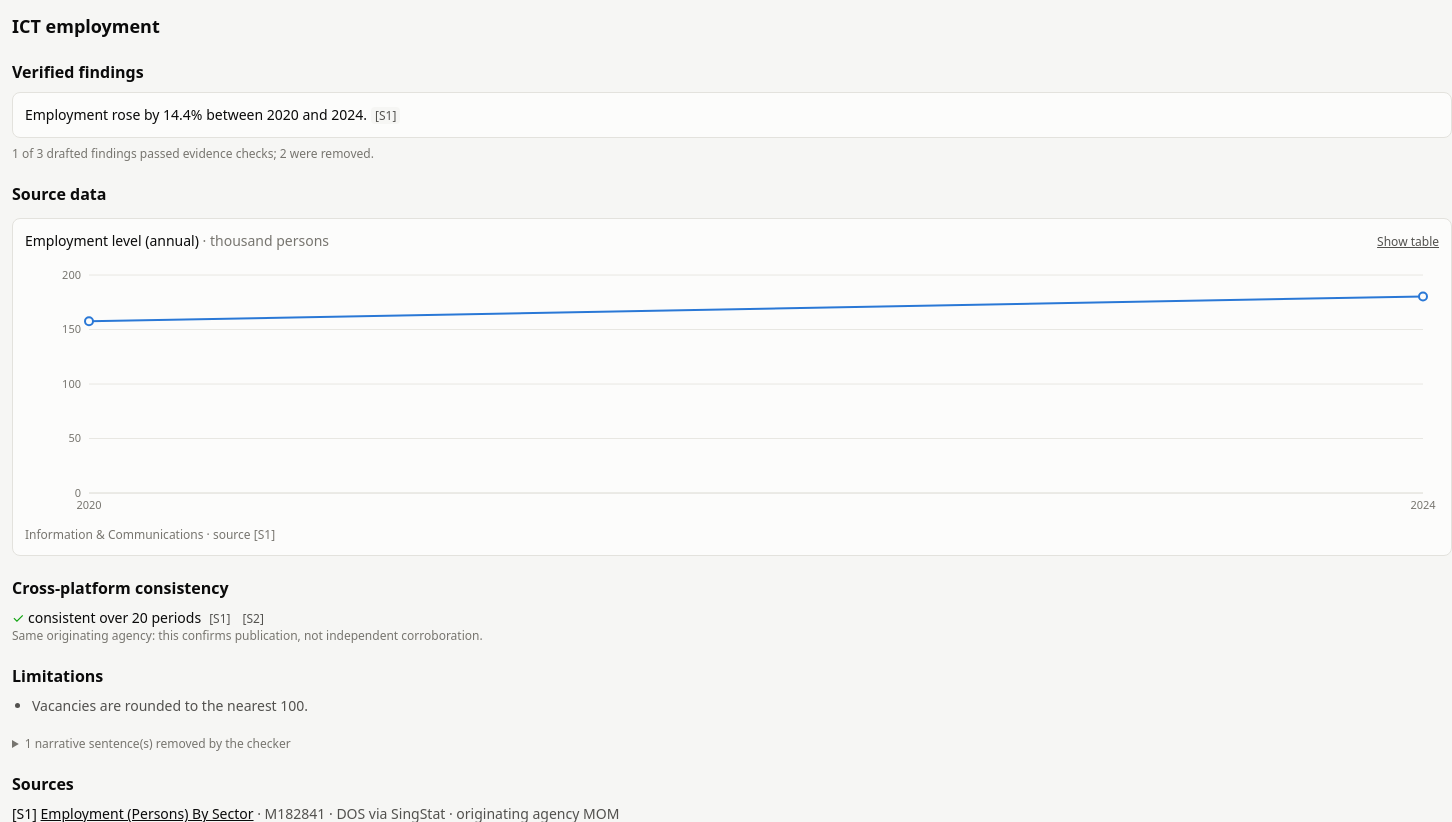
Scenario: ReportView › offers a table of the exact source values
Click the button "Show table" at (1408, 242), box x1=1377 y1=234 x2=1439 y2=250
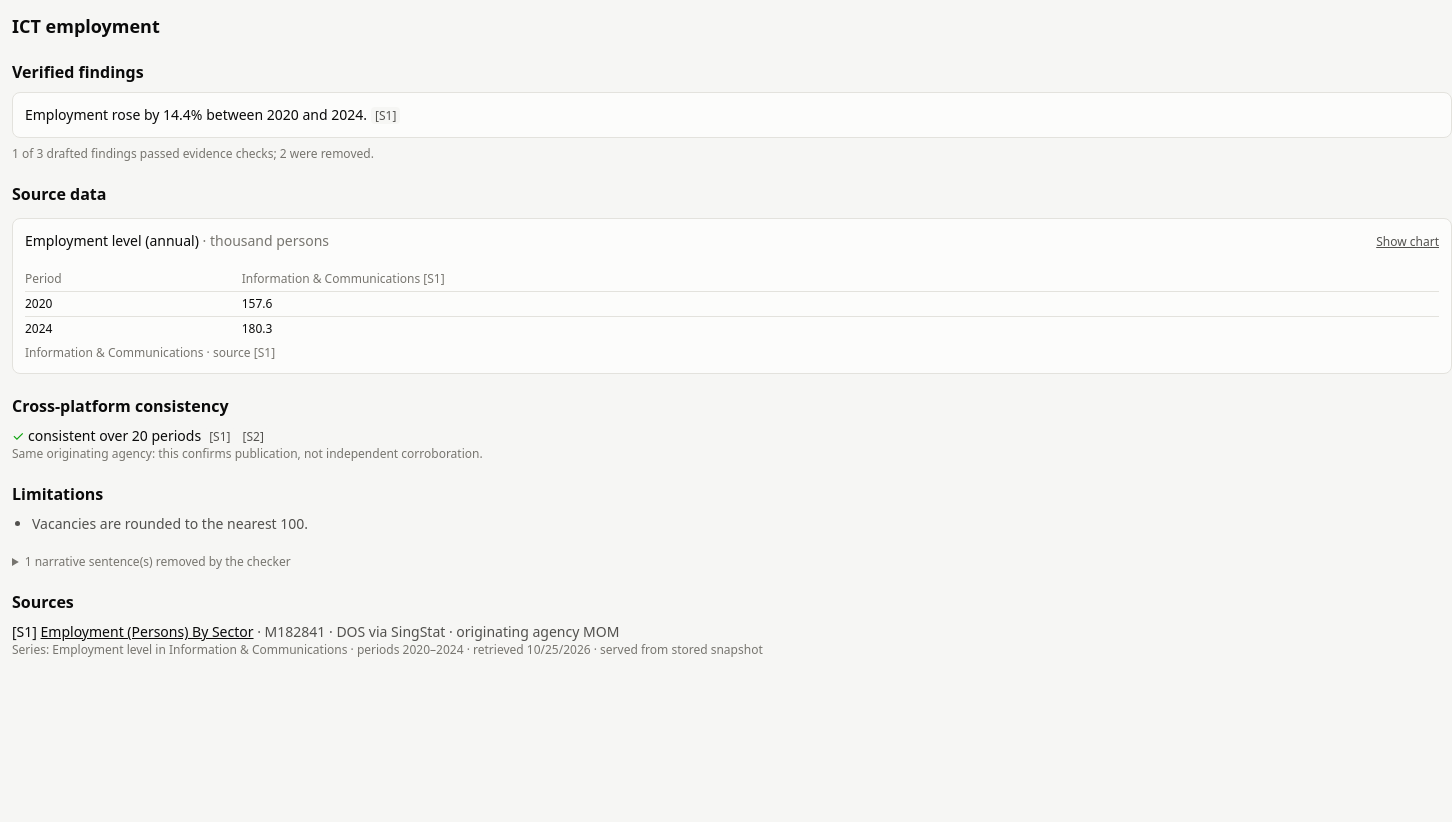
Result: the text "180.3" is shown at x1=242 y1=316 x2=1439 y2=341
Result: the column heading "Information & Communications [S1]" is shown at x1=242 y1=267 x2=1439 y2=292
